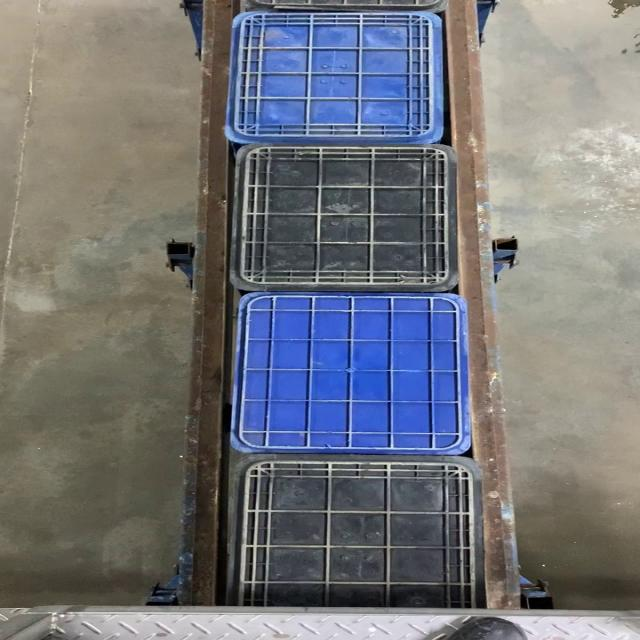Box: (229, 294, 472, 458), (228, 144, 464, 296), (226, 8, 442, 143)
